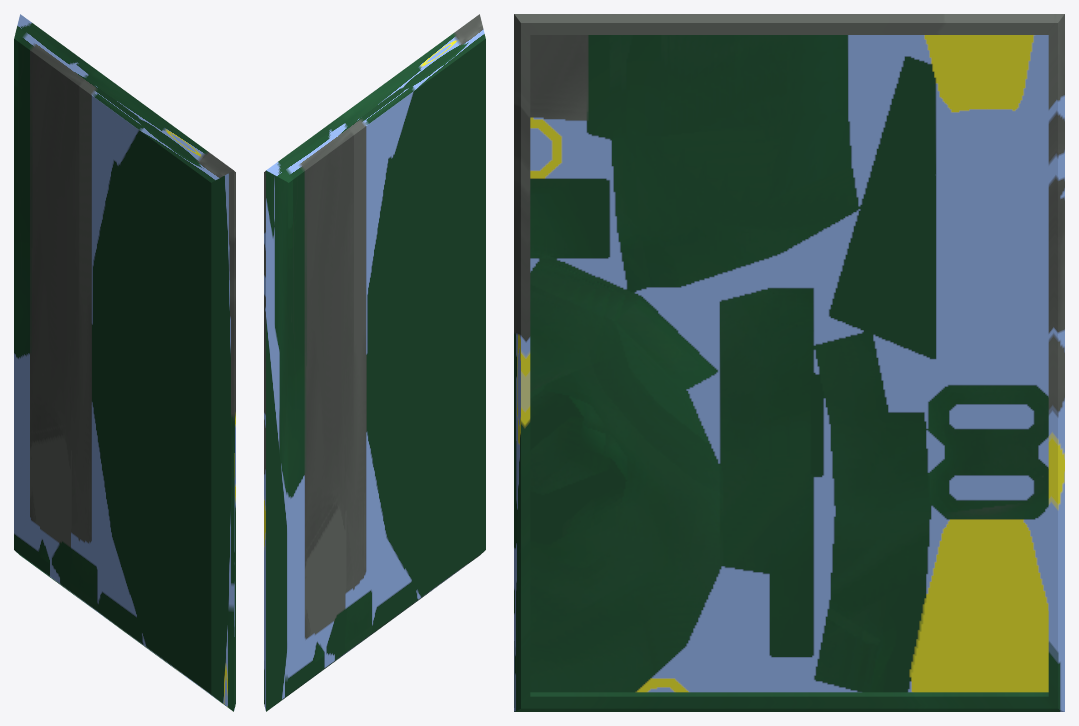
File: плакатnotexture.fbx
The picture shows the model from 3 angles, left to right: view 1: azimuth 30°, elevation 25°; view 2: azimuth 150°, elevation 25°; view 3: azimuth 270°, elevation 25°; orthographic projection. The views are drawn at different scales.
Visible parts, largest first — view 1: Cube; view 2: Cube; view 3: Cube.
Part boxes in pixels (left/top/right/bottom): Cube: left=14, top=14, right=235, bottom=711; Cube: left=264, top=14, right=485, bottom=711; Cube: left=514, top=14, right=1064, bottom=711.
Size of the model in its own units: 18.98 by 517 by 370.
